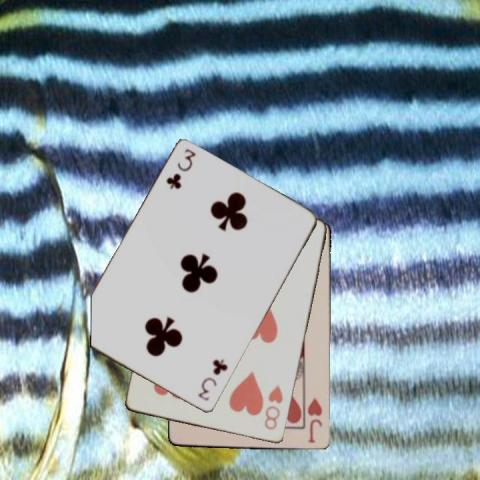3c: (196, 356, 229, 403), (163, 146, 197, 191)
8h: (261, 382, 285, 432)
Jh: (305, 395, 323, 445)
